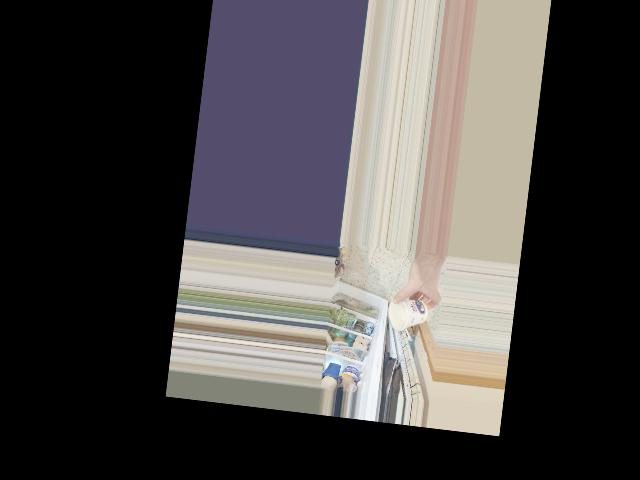cotage: (392, 293, 429, 336)
